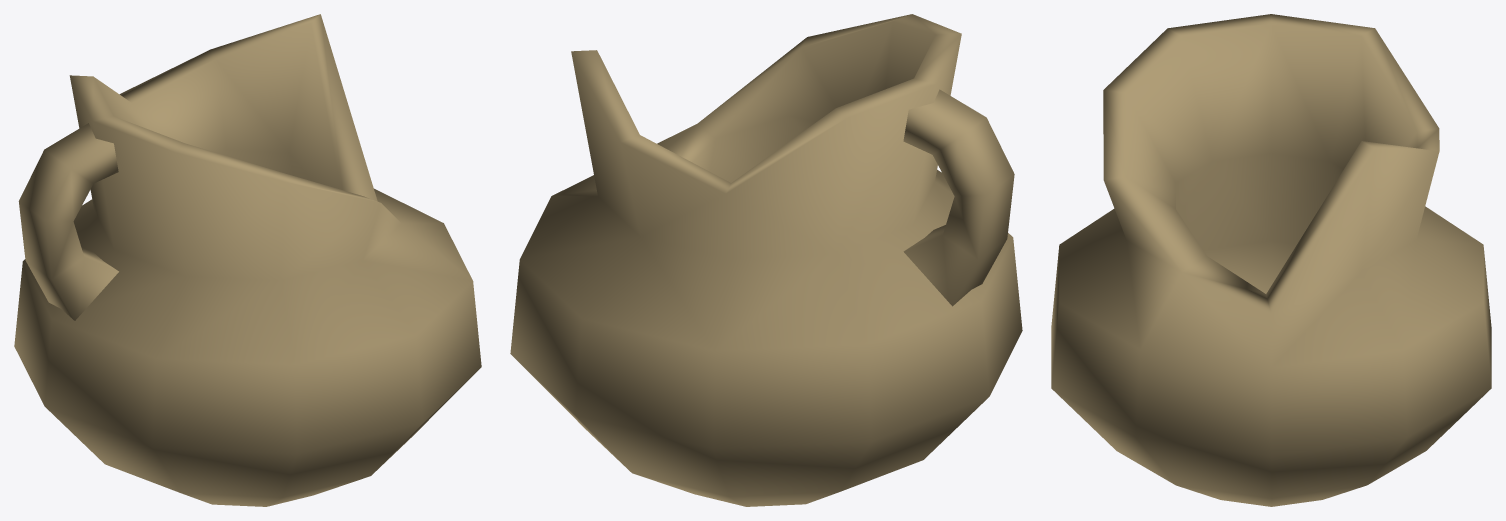
The model's file is rpgpp_av_jug_01a.gltf.
3 views of the same model, side by side, from view 1: azimuth 30°, elevation 25°; view 2: azimuth 150°, elevation 25°; view 3: azimuth 270°, elevation 25° (orthographic). The views are drawn at different scales.
Visible parts, largest first — view 1: rpgpp_av_jug_01a; view 2: rpgpp_av_jug_01a; view 3: rpgpp_av_jug_01a.
Boxes of the visible parts, bbox=[...] form: rpgpp_av_jug_01a: bbox=[14, 14, 481, 506]; rpgpp_av_jug_01a: bbox=[510, 14, 1022, 506]; rpgpp_av_jug_01a: bbox=[1051, 14, 1491, 506].
Size of the model in its own units: 0.00334 by 0.00296 by 0.0031.
1 material, 1 textured.
